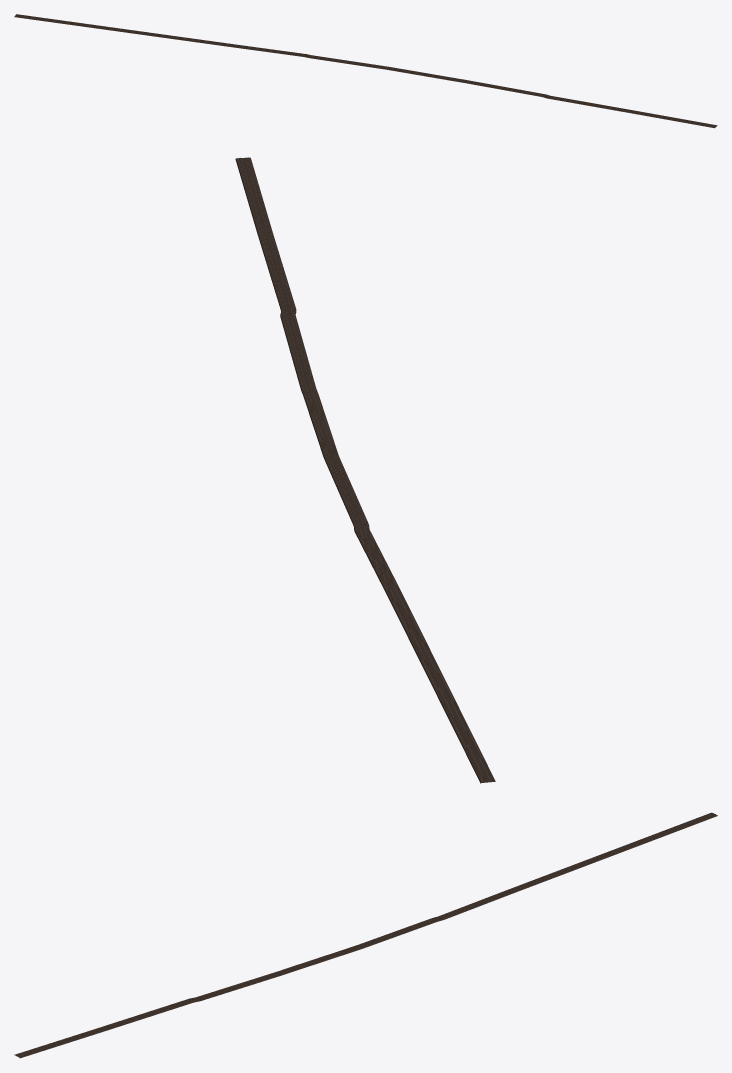
The model's file is kobe_0006.glb.
The picture shows the model from 3 angles, top to bottom: view 1: azimuth 30°, elevation 25°; view 2: azimuth 150°, elevation 25°; view 3: azimuth 270°, elevation 25°; orthographic projection. The views are drawn at different scales.
Visible parts, largest first — view 1: ballast_top, oxidised_rail_profiles; view 2: ballast_top, oxidised_rail_profiles, ballast_left; view 3: ballast_top, oxidised_rail_profiles, ballast_left.
Part boxes in pixels (<box>): ballast_top: <box>14,14,717,128</box>; oxidised_rail_profiles: <box>14,14,716,127</box>; ballast_top: <box>236,157,495,782</box>; oxidised_rail_profiles: <box>238,157,493,782</box>; ballast_left: <box>235,159,480,783</box>; ballast_top: <box>14,812,717,1057</box>; oxidised_rail_profiles: <box>15,813,715,1056</box>; ballast_left: <box>20,815,717,1058</box>.
Bounding box in the file's own units: 485 × 0.819 × 588.
Materials: 4 (3 with a texture image).
